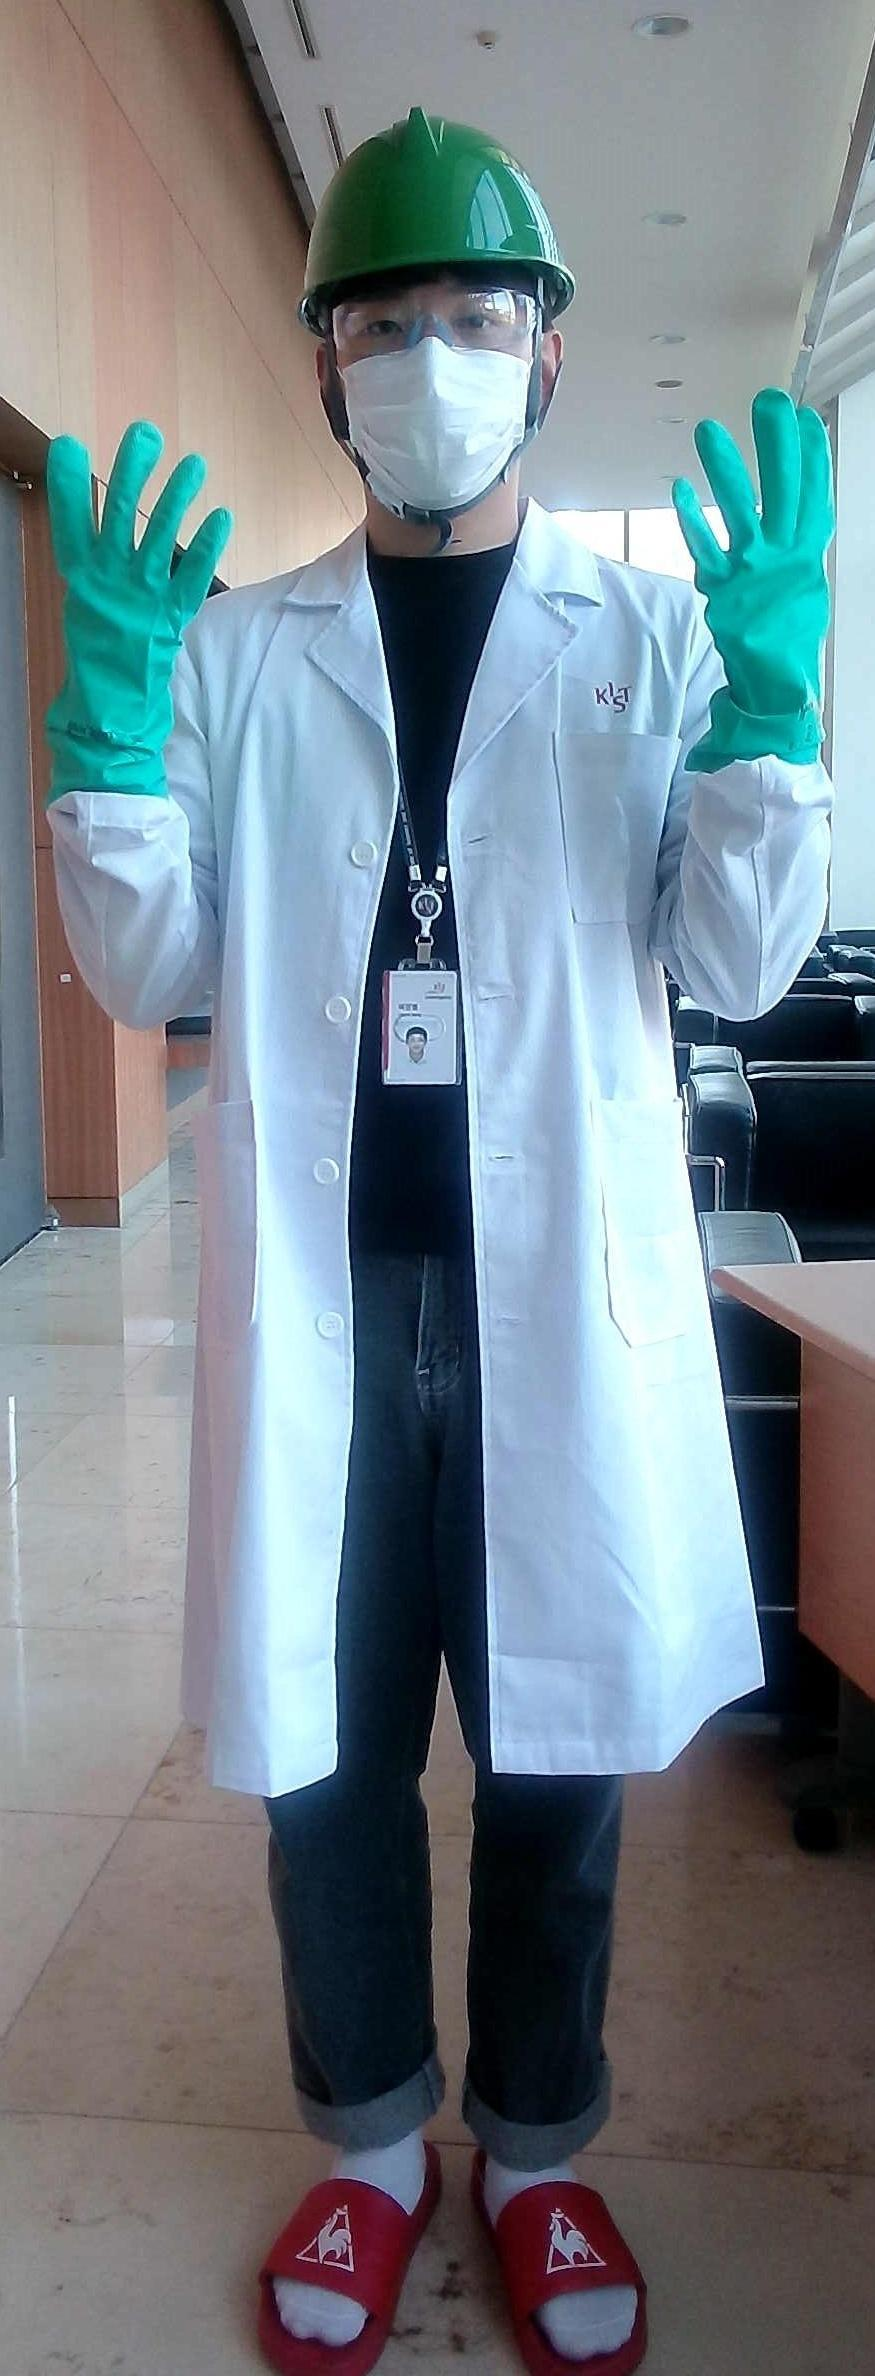lab_coat: (217, 591, 696, 1794)
